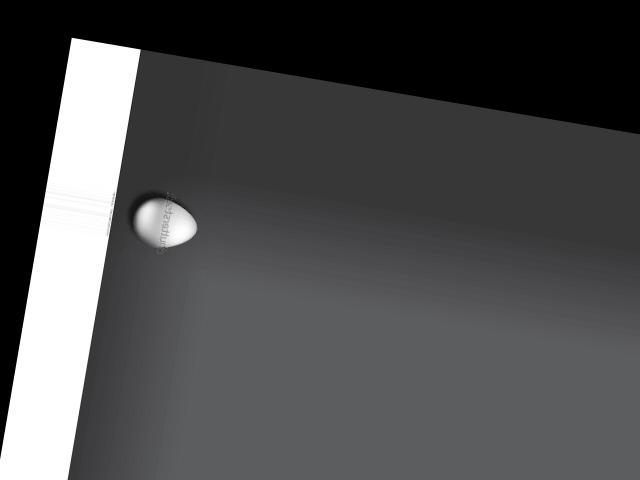egg: (129, 193, 201, 253)
